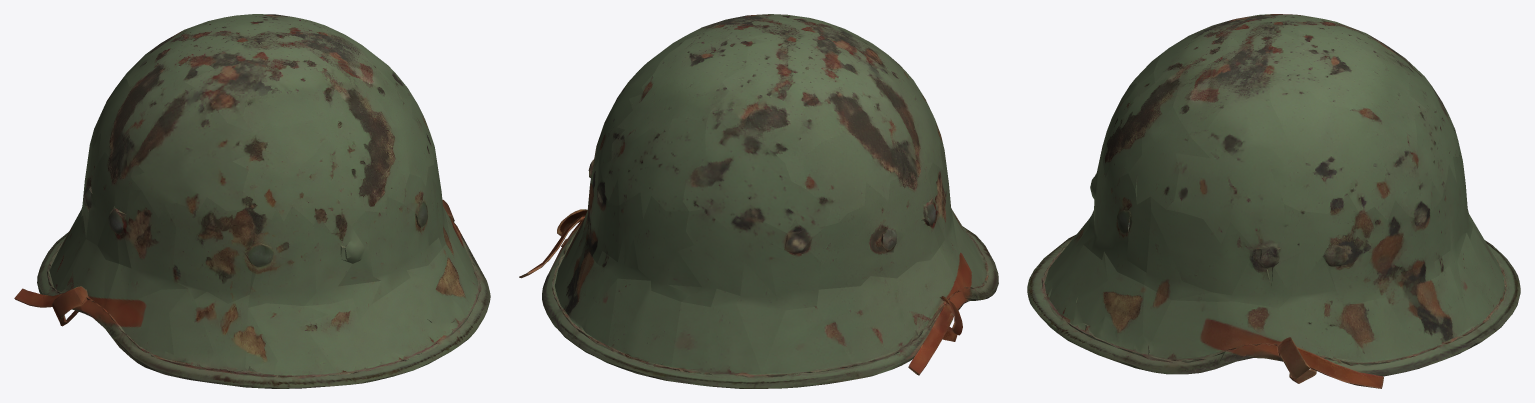
3 renders of one model, left to right at view 1: azimuth 30°, elevation 25°; view 2: azimuth 150°, elevation 25°; view 3: azimuth 270°, elevation 25°, orthographic.
Size of the model in its own units: 1.79 by 1.11 by 1.9.
1 material, 1 textured.
